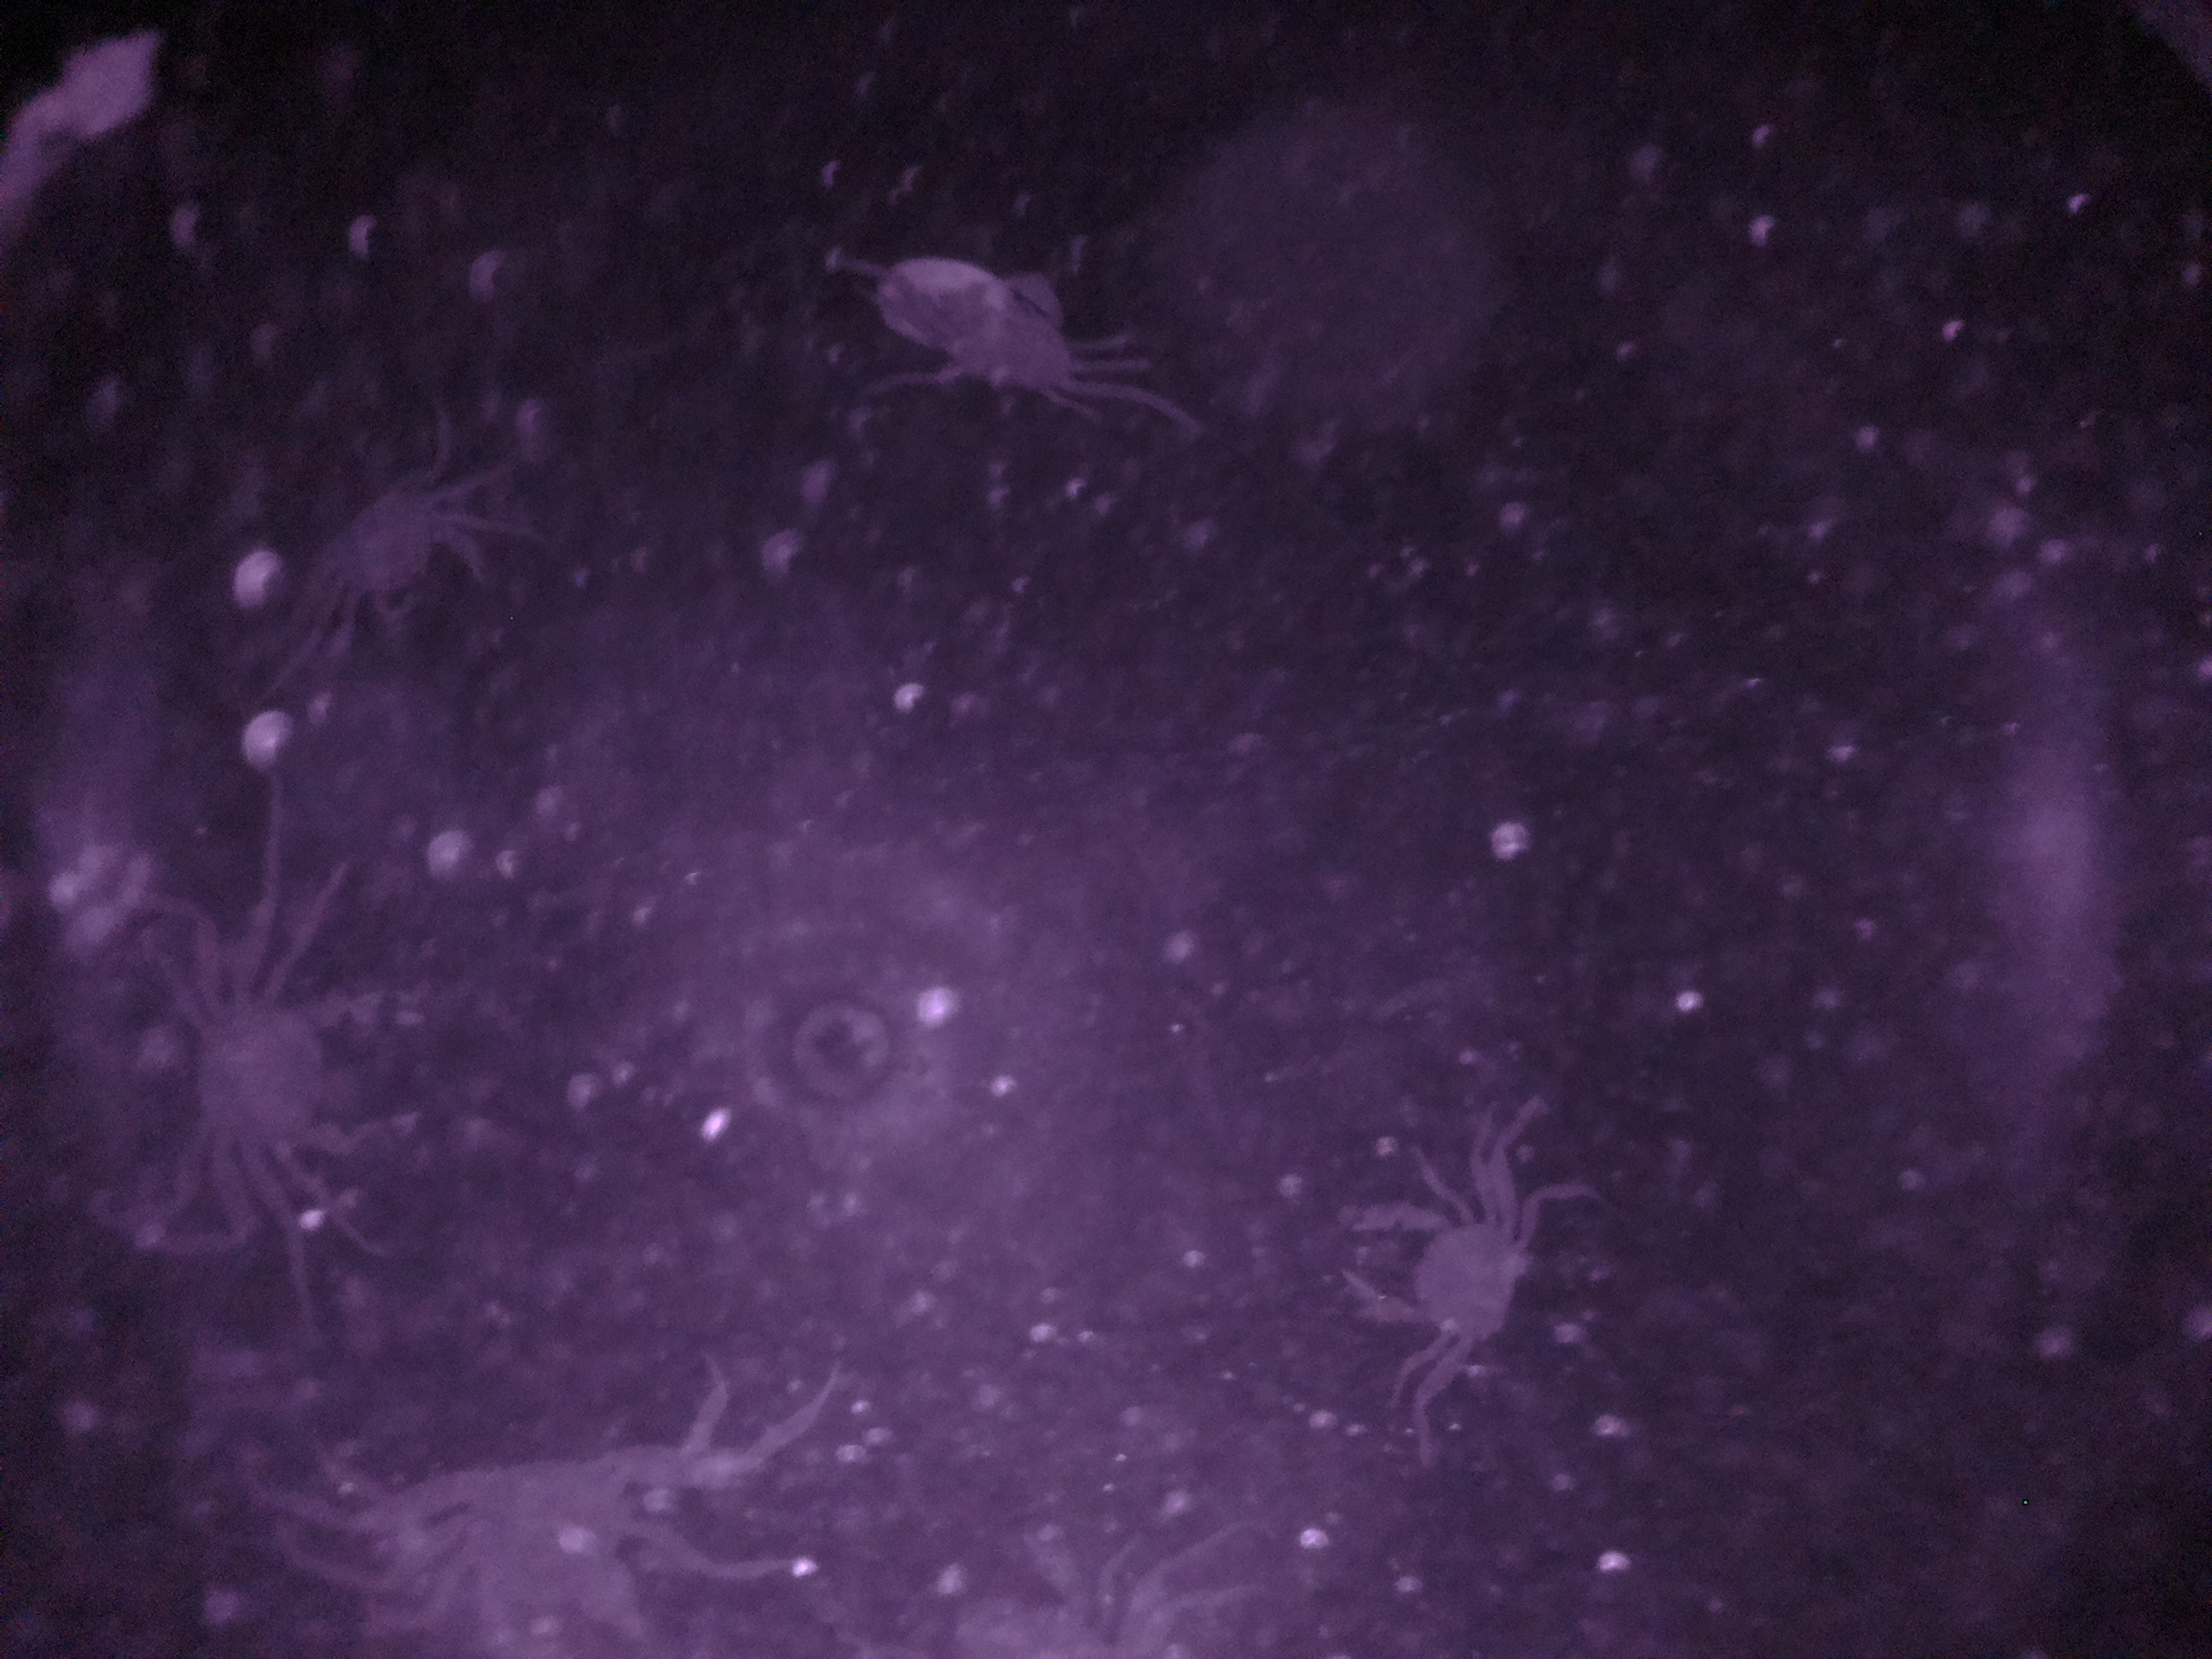Crab: (1306, 1145, 1541, 1389)
